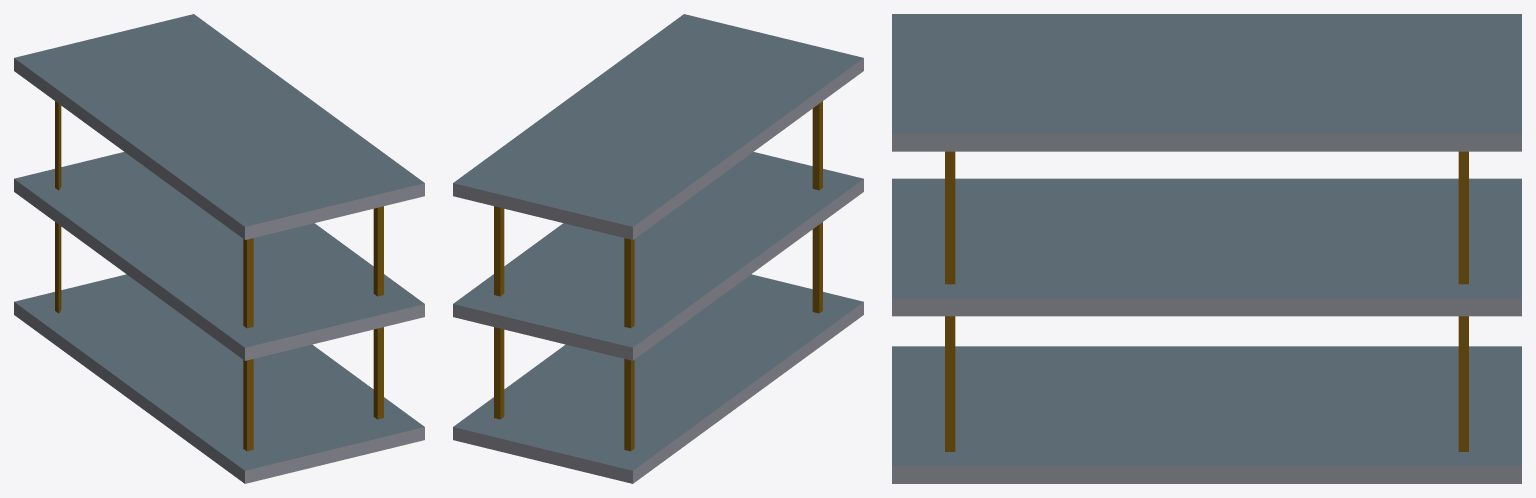
The model's file is Display_Tray.fbx.
3 renders of one model, left to right at view 1: azimuth 30°, elevation 25°; view 2: azimuth 150°, elevation 25°; view 3: azimuth 270°, elevation 25°, orthographic. The views are drawn at different scales.
Visible parts, largest first — view 1: Ledges; view 2: Ledges; view 3: Ledges.
Boxes of the visible parts, <box> form: Ledges: <box>14,14,424,483</box>; Ledges: <box>453,14,863,483</box>; Ledges: <box>892,14,1521,483</box>.
Bounding box in the file's own units: 24.88 × 33.96 × 55.34.
